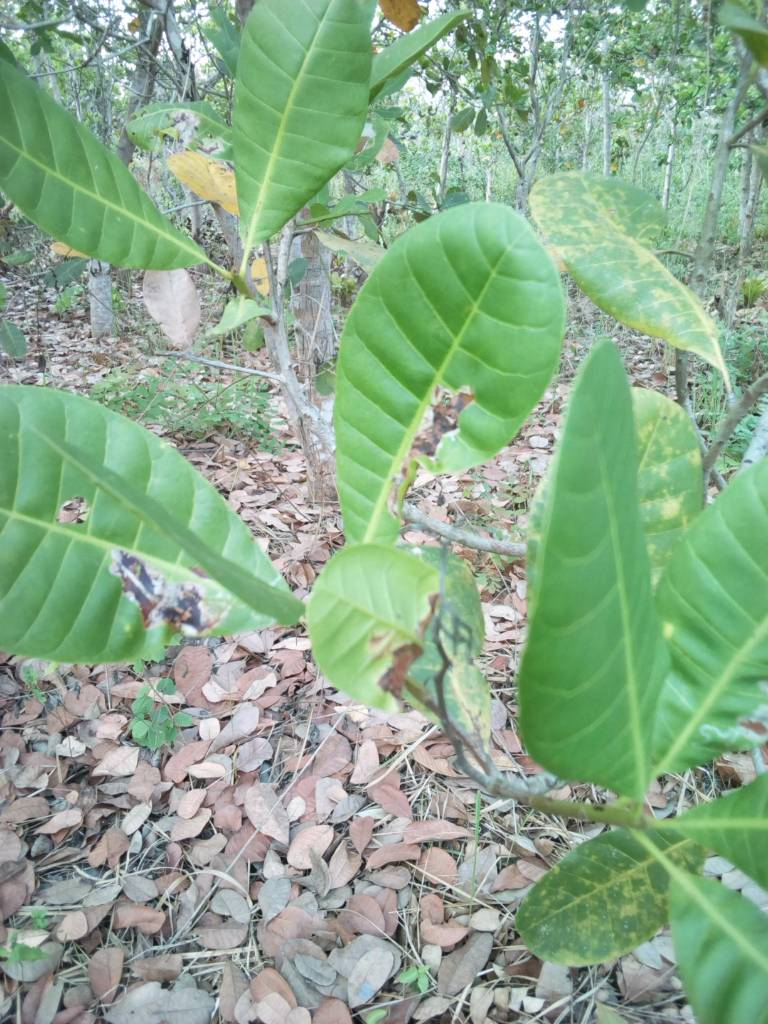Dysdercus wolkerii: (263, 179, 635, 640), (1, 365, 330, 685)
